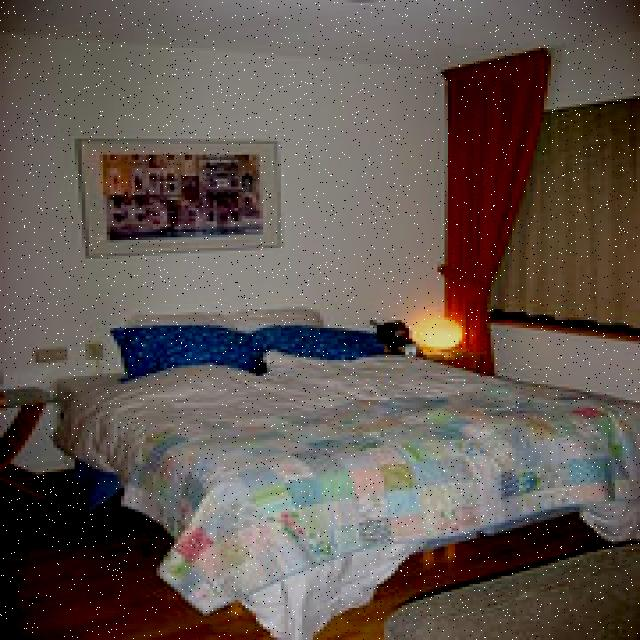bed: (60, 304, 640, 640)
